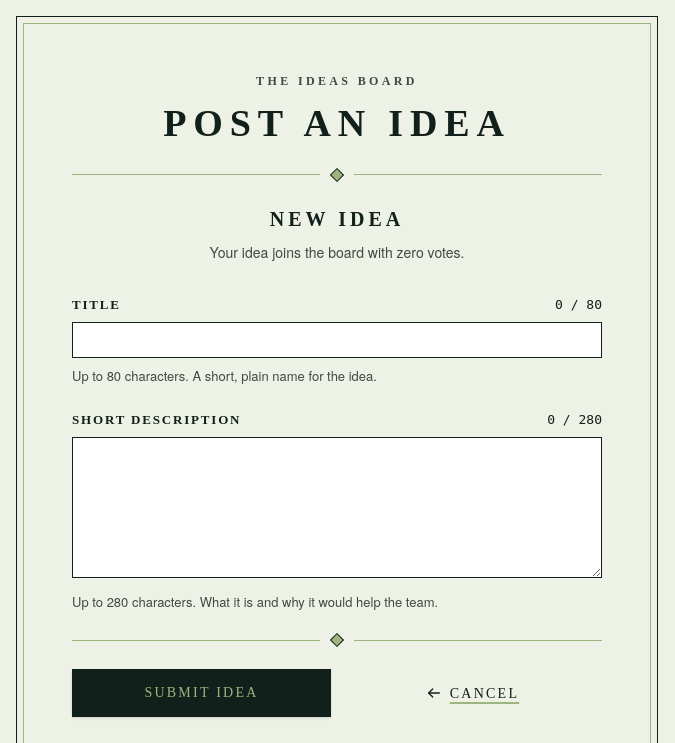
Post an Idea › [AC-021] posts the title and description and confirms zero votes
The width and height of the screenshot is (675, 743).
Expected: the heading "Post an Idea" is shown, [163,102,511,144]
Expected: the form with test id "new-idea-form" is shown, [72,204,602,717]
Step 1. Type "Free coffee" into the field with test id "title-max-80-characters-input" → (337,340), box [72,322,602,358]
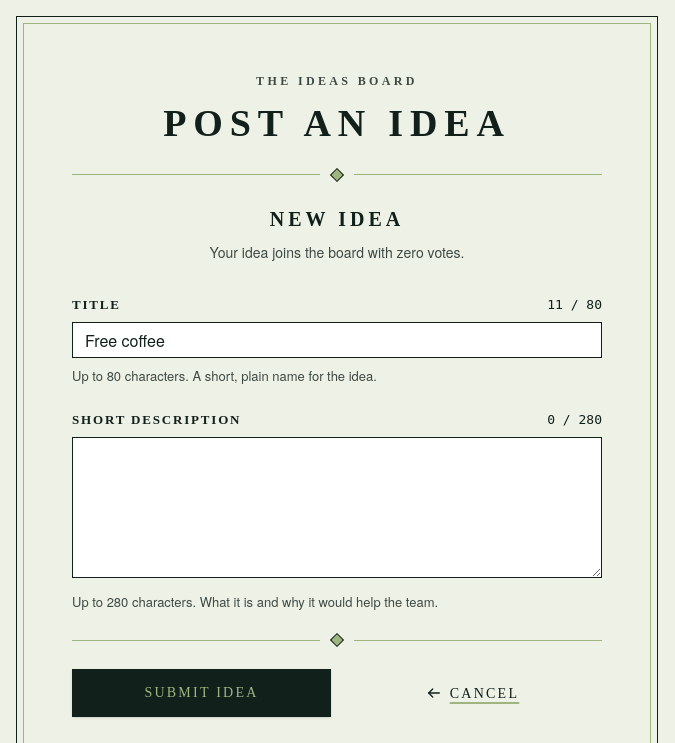
Step 2. Type "Coffee on Fridays" into the text box with test id "short-description-max-280-characte-input" → (337,507), box [72,437,602,578]
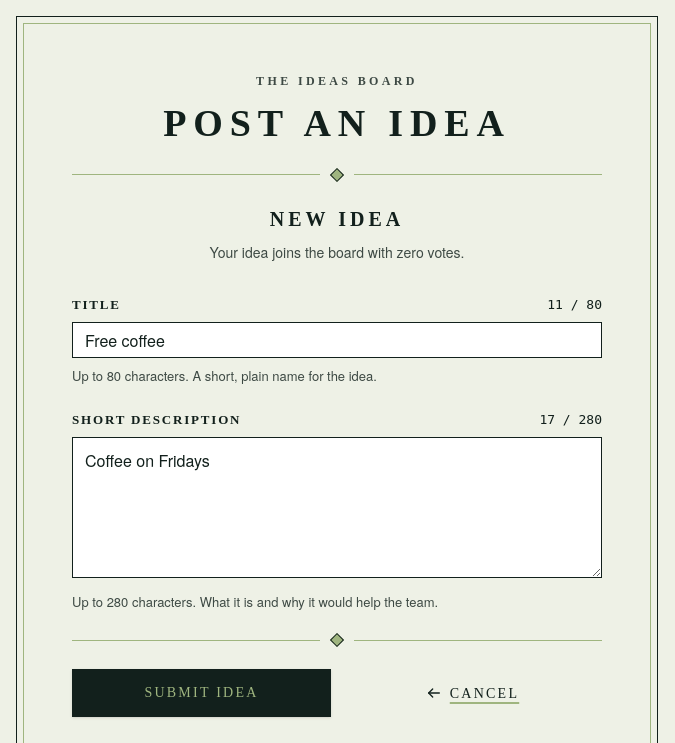
Step 3. Click the button with test id "submit-idea-btn" → (202,693), box [72,669,331,717]
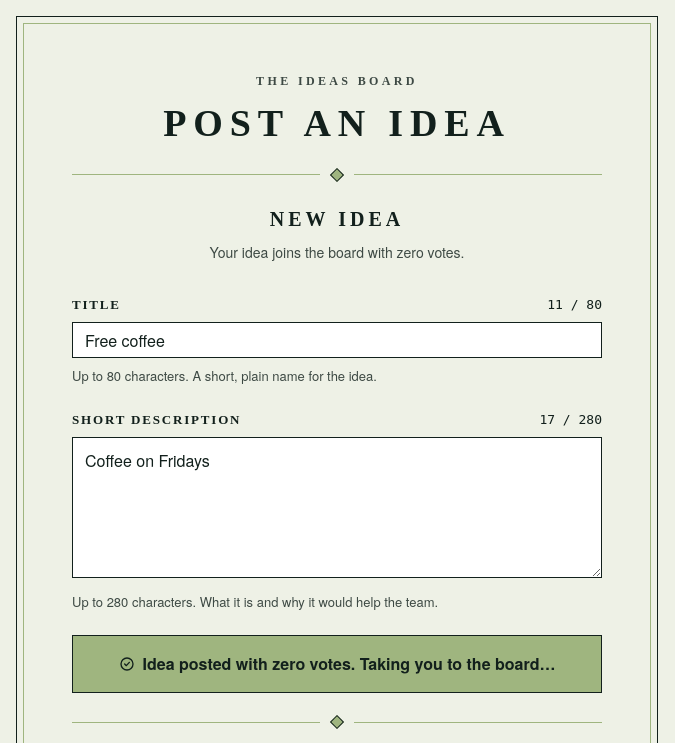
Now the text "Idea posted with zero votes. Taking you to the board…" is shown, box [142,652,555,676]
